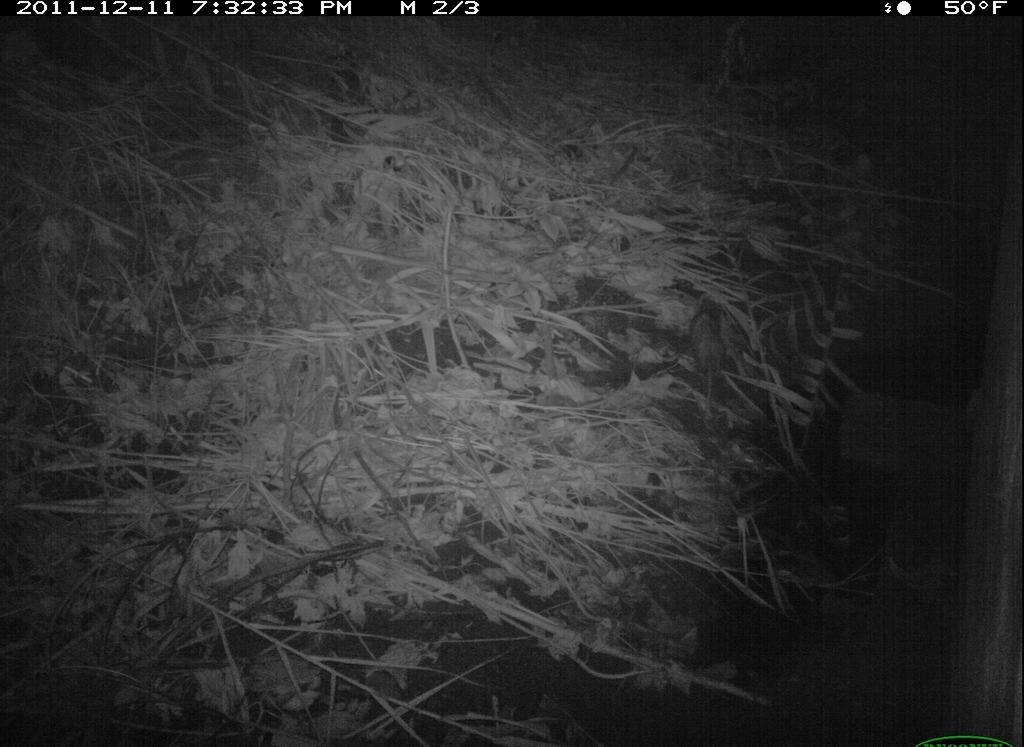opossum: (681, 280, 738, 434)
